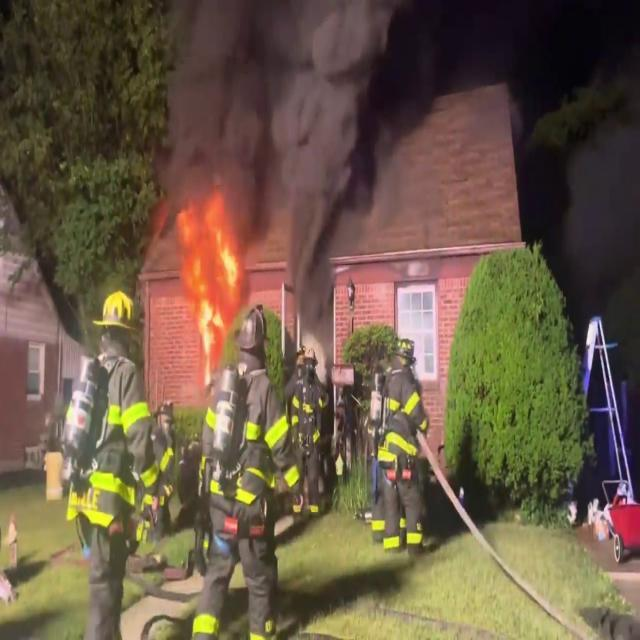Fire: (176, 192, 242, 364)
Smoke: (153, 0, 407, 230)
